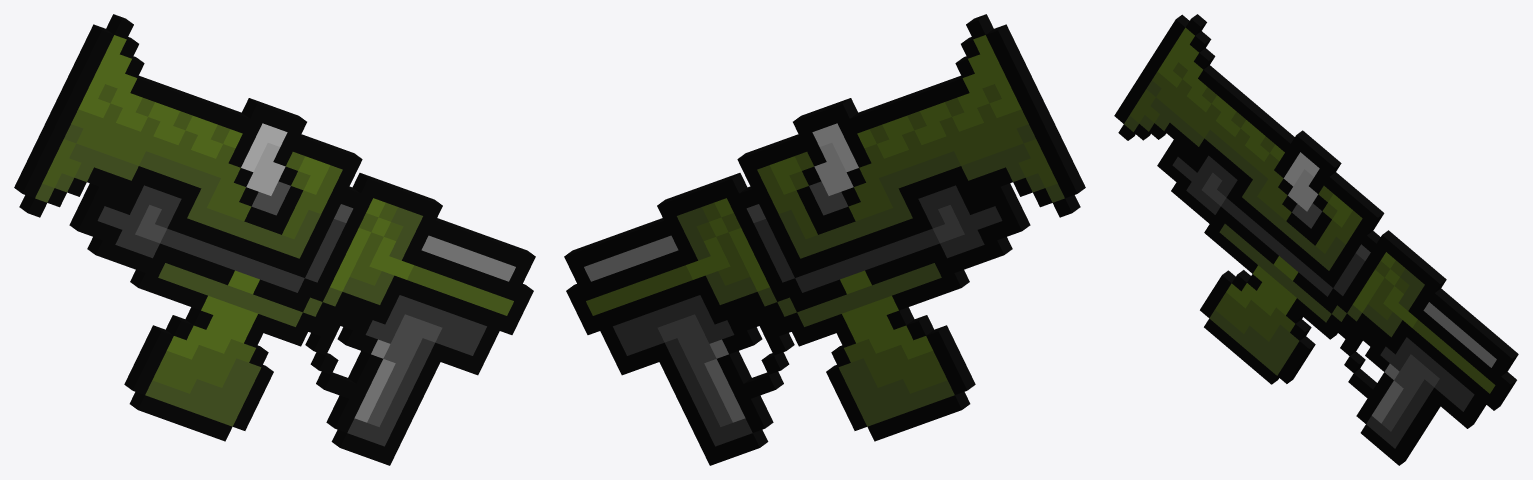
File: Green Heavy Paintball Gun.glb
3 views of the same model, side by side, from view 1: azimuth 30°, elevation 25°; view 2: azimuth 150°, elevation 25°; view 3: azimuth 330°, elevation 25° (orthographic). The views are drawn at different scales.
Parts seen in each view (by area): view 1: Untitled; view 2: Untitled; view 3: Untitled.
Part boxes in pixels (x1,y1,x2,y2): Untitled: [14, 14, 535, 465]; Untitled: [564, 14, 1085, 465]; Untitled: [1114, 14, 1518, 465].
Bounding box in the file's own units: 14.22 × 13.53 × 0.4.
Materials: 1 (1 with a texture image).
